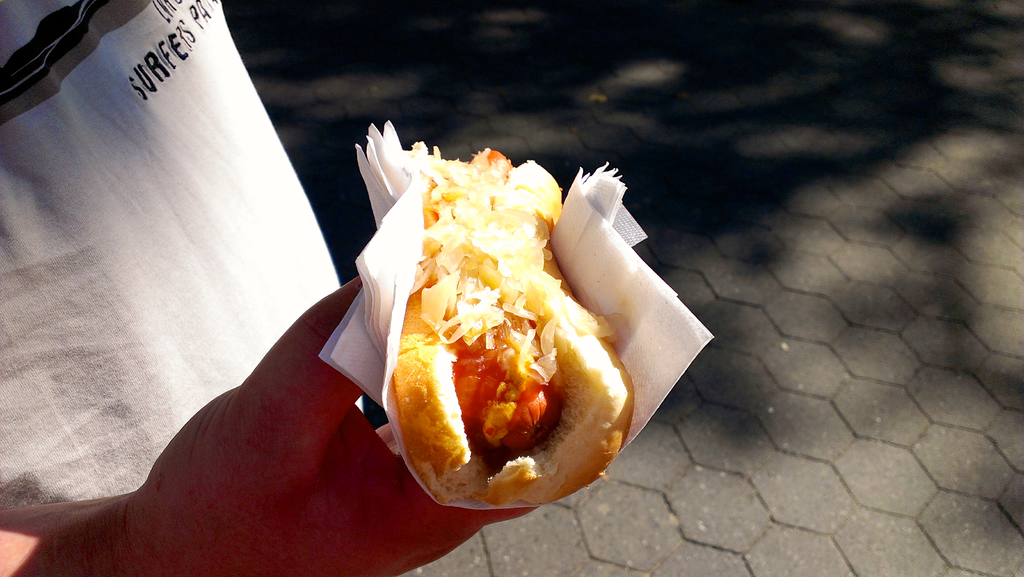hot_dog: (378, 145, 645, 516)
